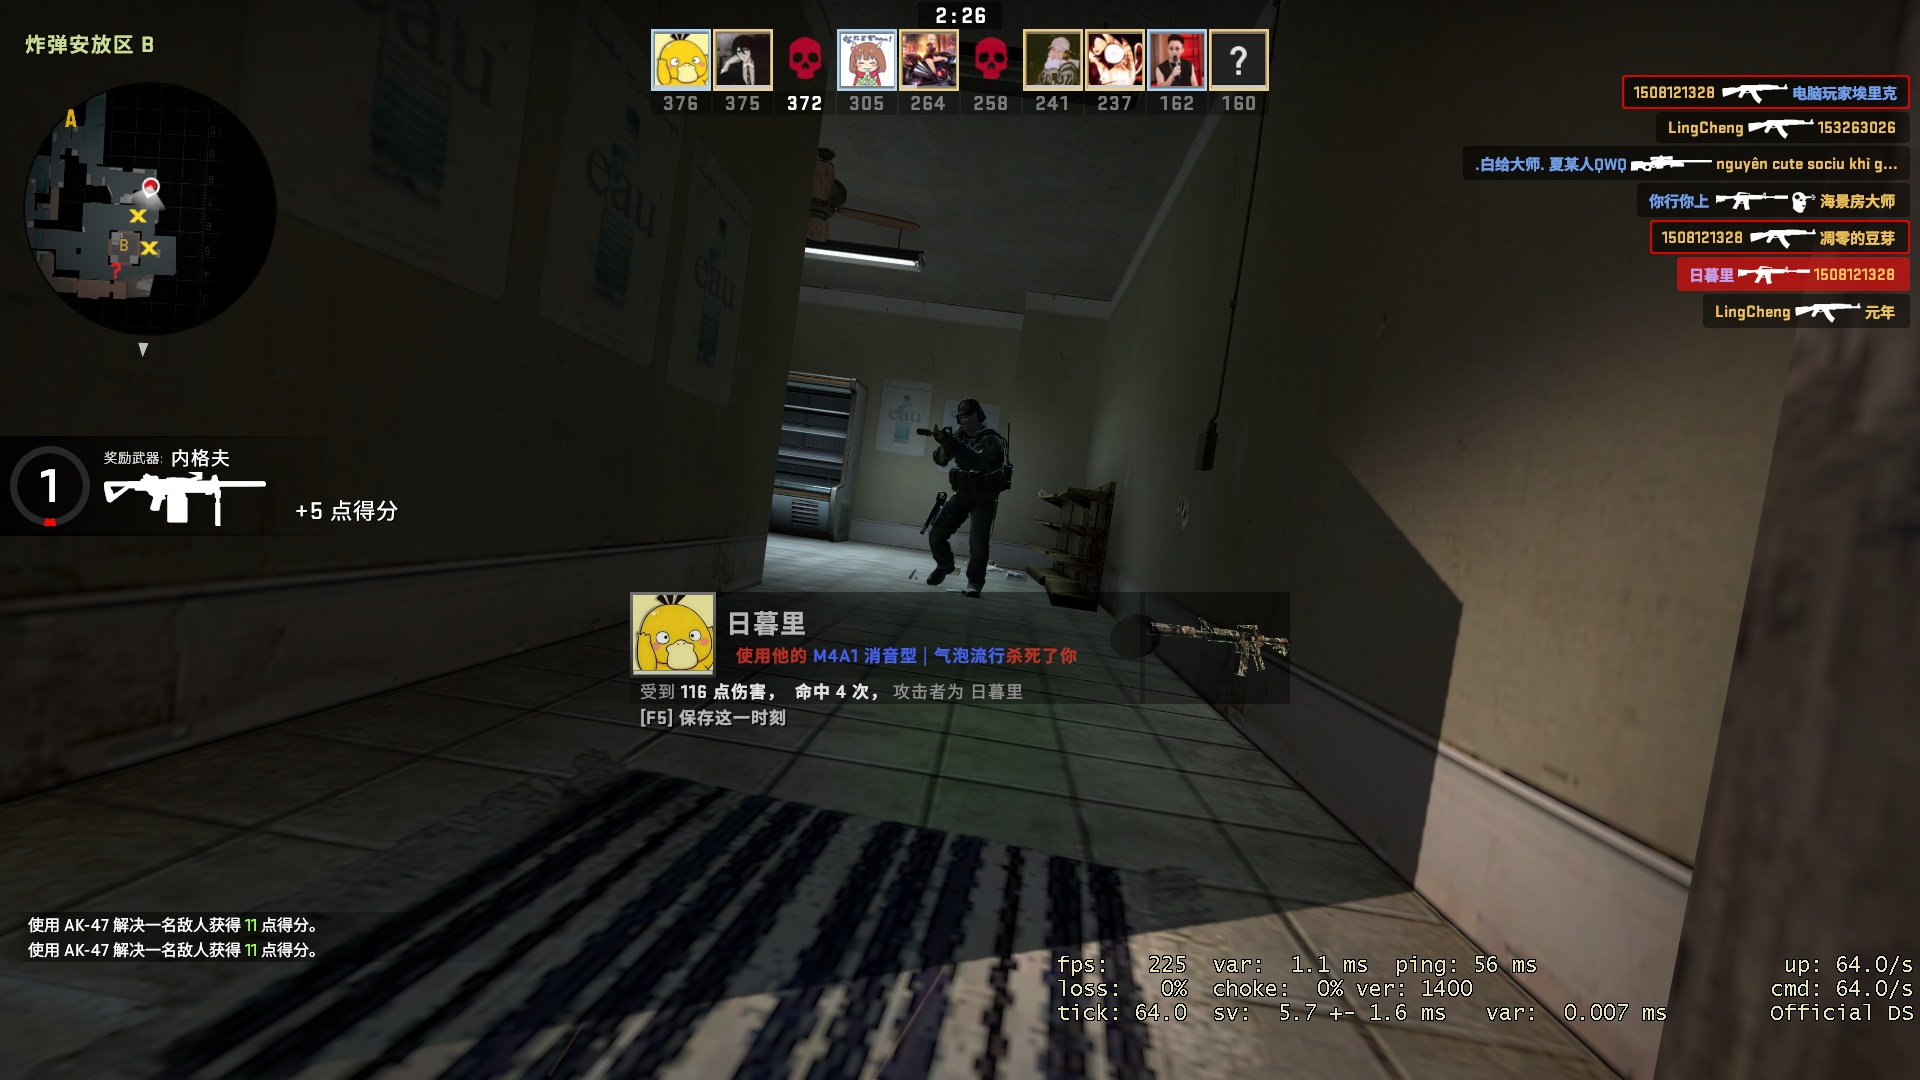body: (918, 398, 1007, 595)
head: (955, 399, 984, 434)
